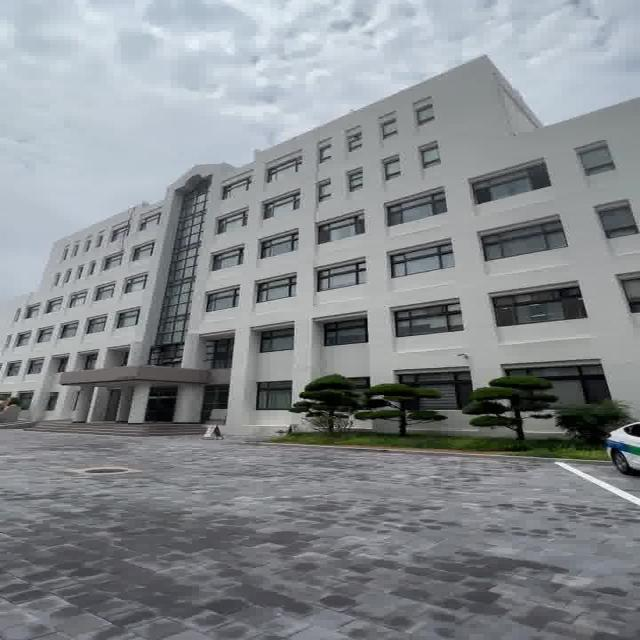building: (68, 134, 634, 382)
